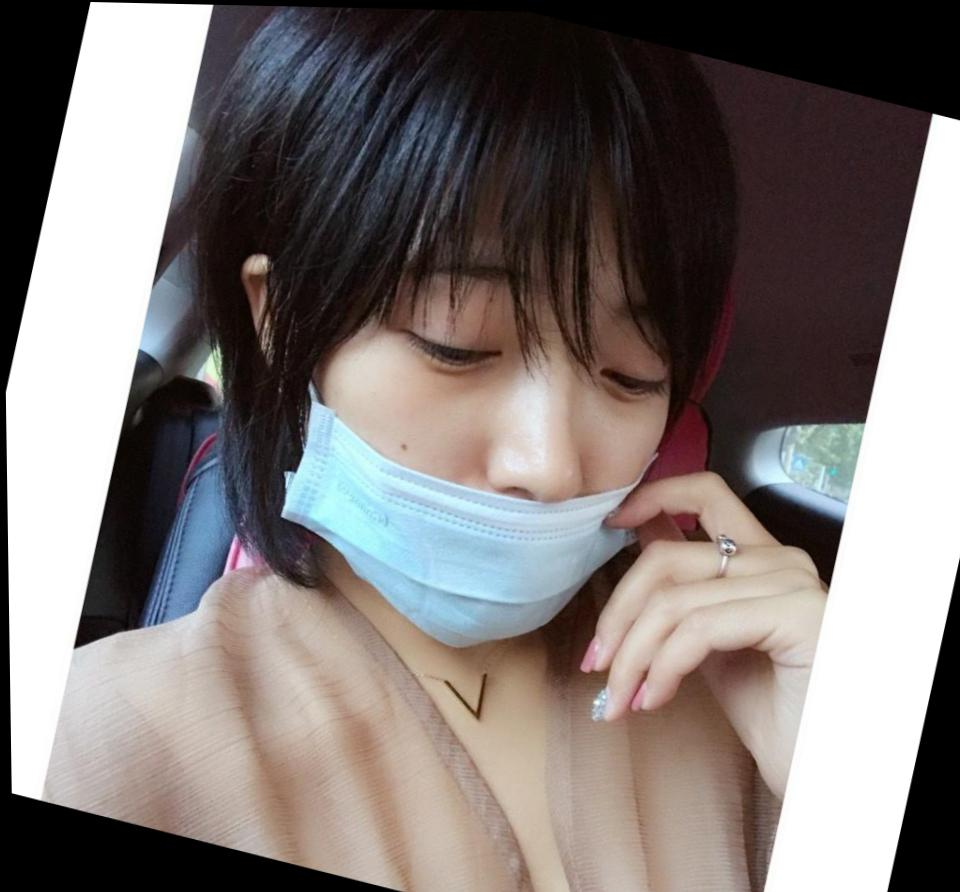WRONG: (247, 149, 723, 692)
